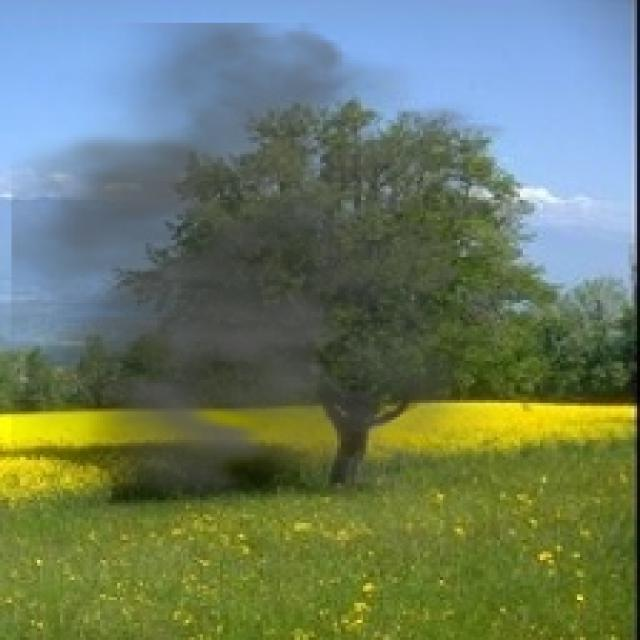Smoke: (11, 23, 558, 543)
